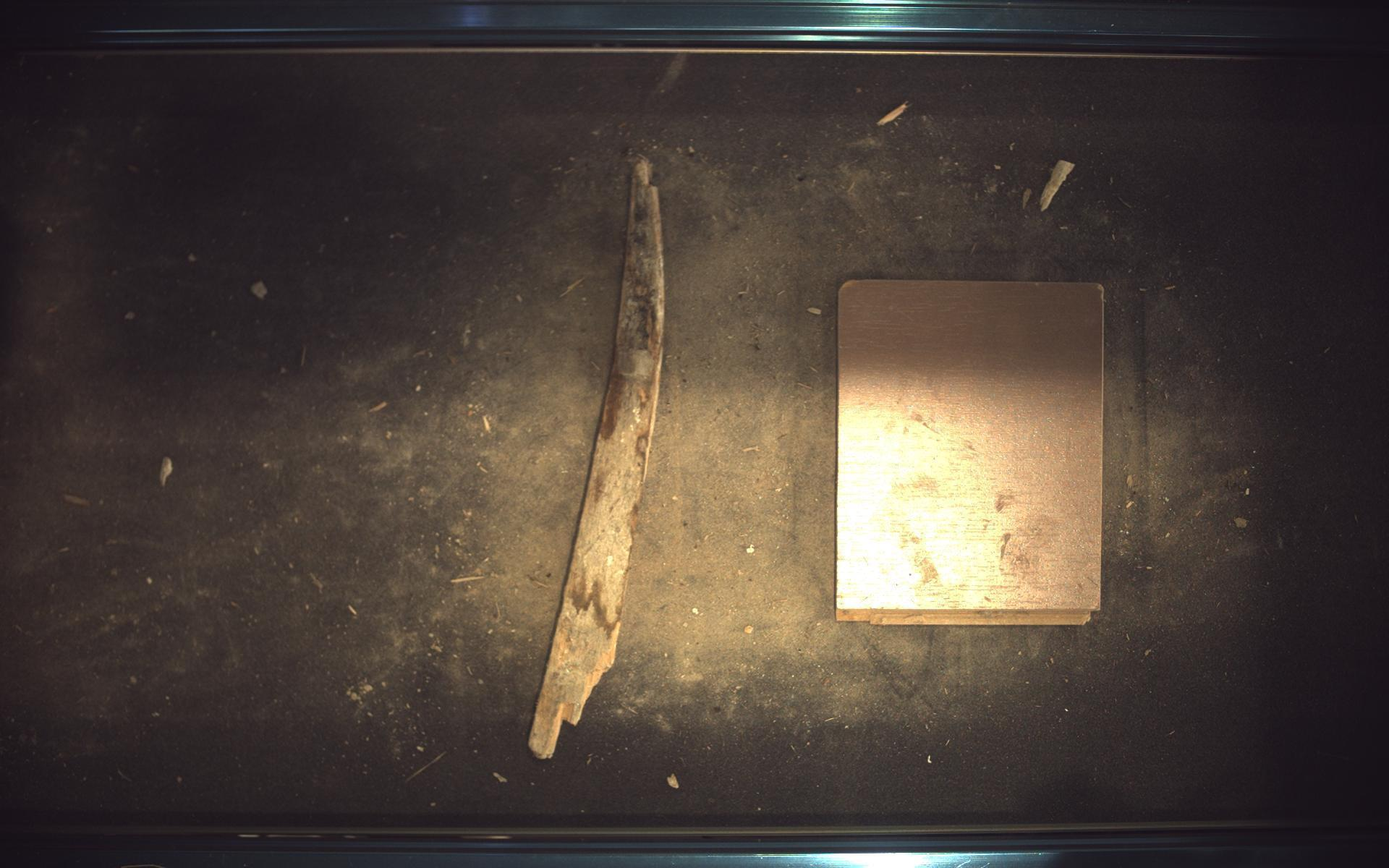wood: (839, 279, 1106, 626), (529, 156, 665, 760)
